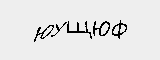У: (51, 17, 66, 38)
Ф: (110, 19, 129, 40)
Щ: (65, 19, 93, 39)
Ю: (32, 21, 54, 43), (90, 18, 111, 39)
